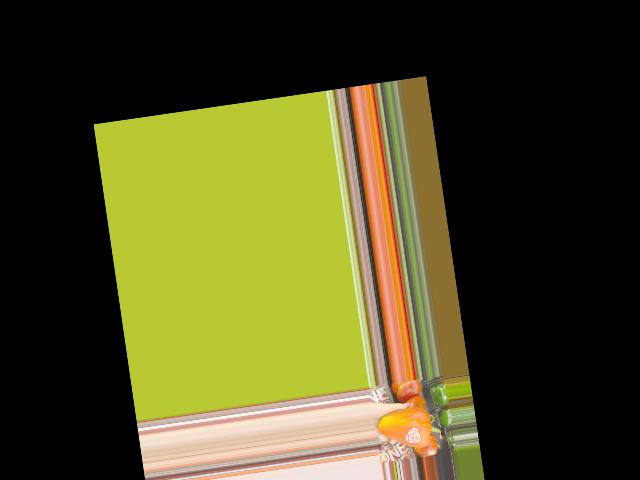bell_pepper: (376, 399, 443, 454)
